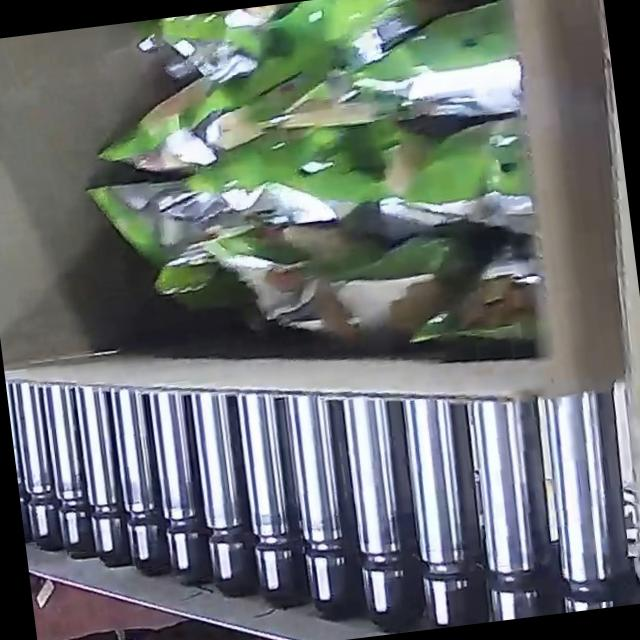yogurt: (63, 0, 556, 386)
